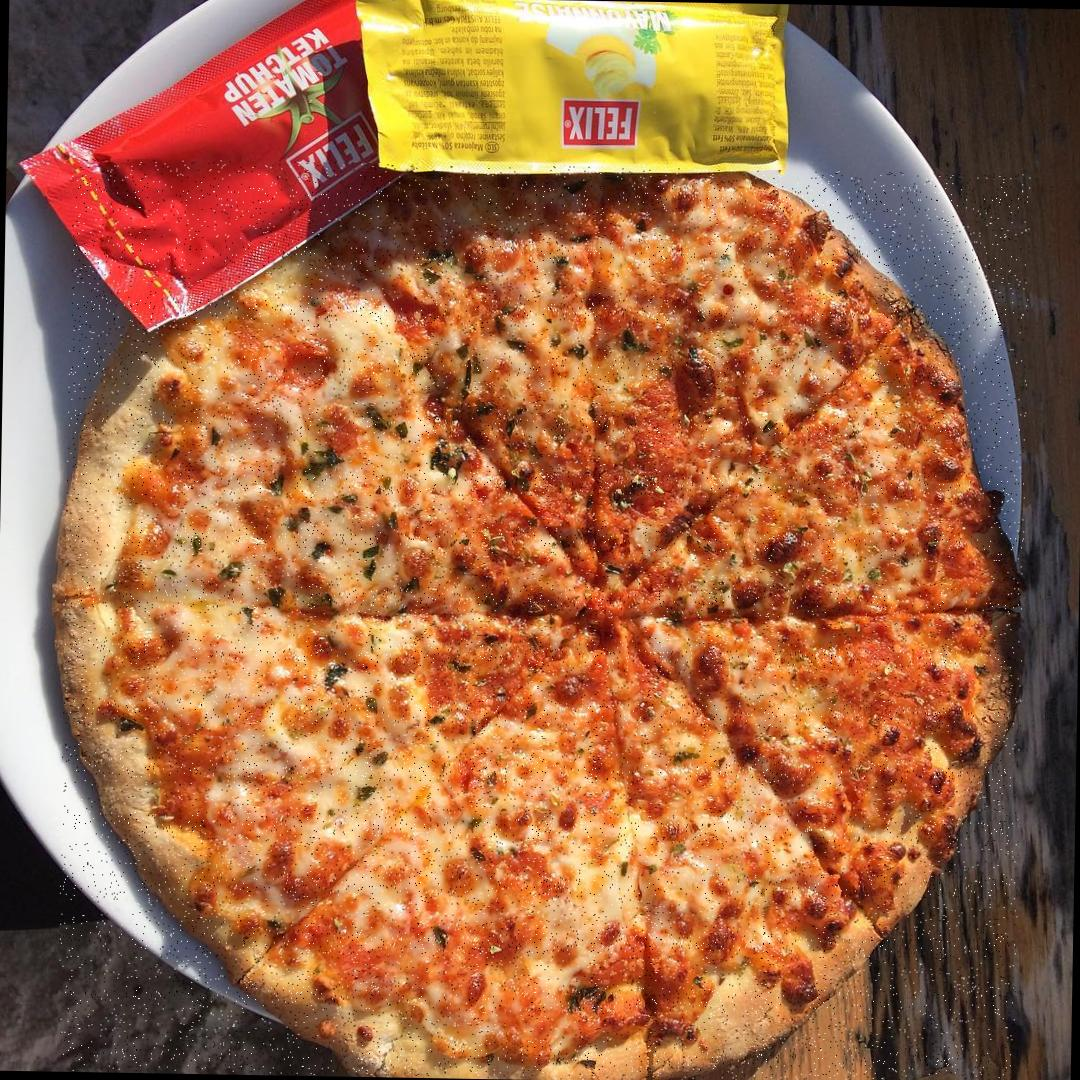Pizza: (57, 158, 1031, 1080)
